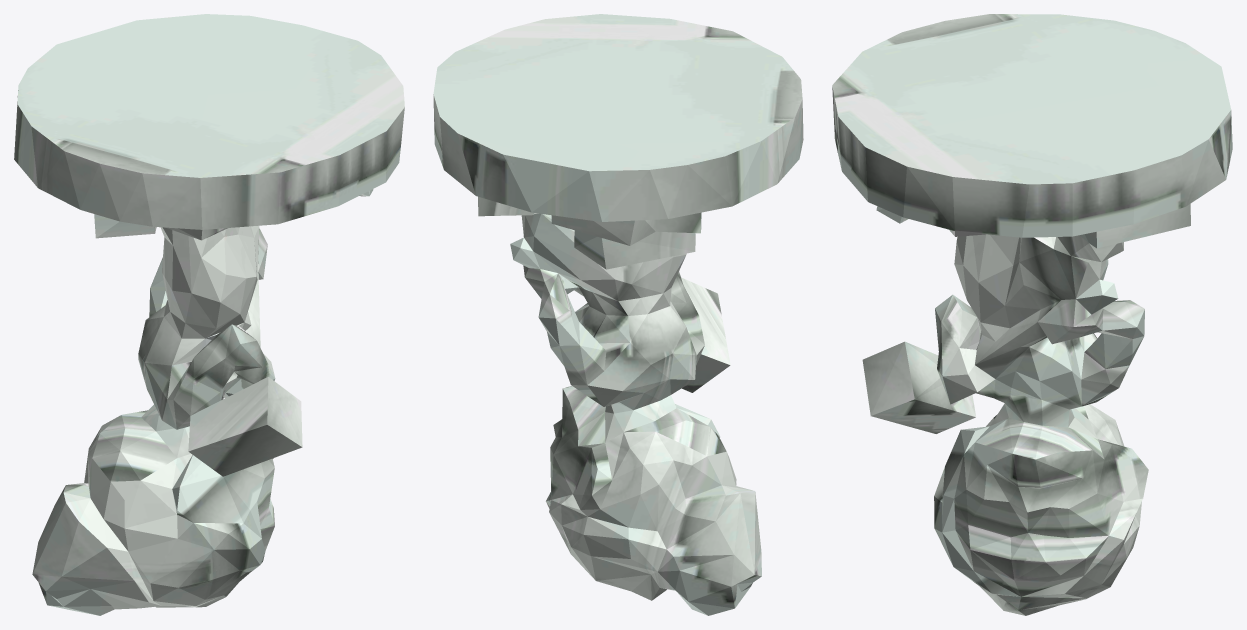
Rendered from workerRed.obj.
3 views of the same model, side by side, from view 1: azimuth 30°, elevation 25°; view 2: azimuth 150°, elevation 25°; view 3: azimuth 270°, elevation 25° (orthographic). The views are drawn at different scales.
Visible parts, largest first — view 1: FemaleBuilder_Blue_0; view 2: FemaleBuilder_Blue_0; view 3: FemaleBuilder_Blue_0.
Part boxes in pixels (left/top/right/bottom): FemaleBuilder_Blue_0: left=14, top=14, right=404, bottom=615; FemaleBuilder_Blue_0: left=433, top=14, right=803, bottom=615; FemaleBuilder_Blue_0: left=832, top=14, right=1232, bottom=615.
Bounding box in the file's own units: 1.17 × 1.66 × 1.14.
1 material, 1 textured.
